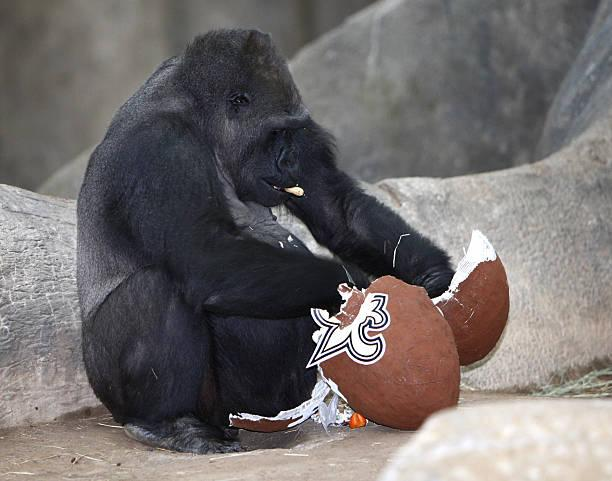gorille_Autres: (71, 10, 351, 332)
